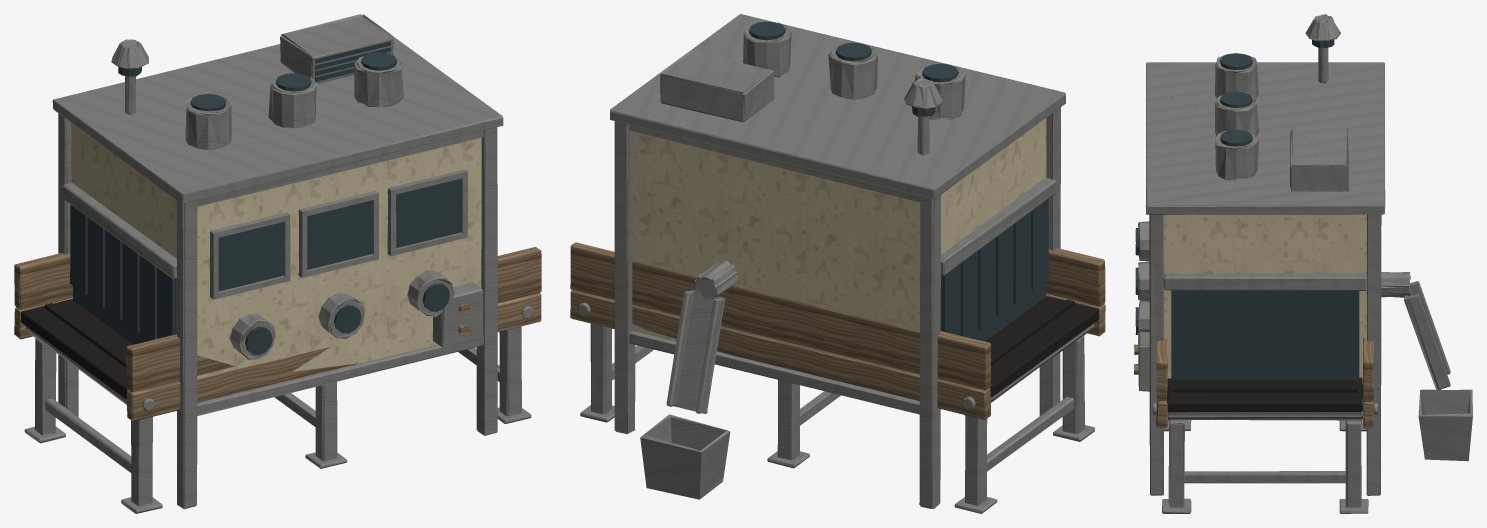
The model's file is optical_sorter.glb.
The picture shows the model from 3 angles, left to right: view 1: azimuth 30°, elevation 25°; view 2: azimuth 150°, elevation 25°; view 3: azimuth 270°, elevation 25°; orthographic projection. The views are drawn at different scales.
Parts seen in each view (by area): view 1: OpticalSorter, Belt; view 2: OpticalSorter, Belt; view 3: OpticalSorter, Belt, Roller2.
Boxes of the visible parts, x1=… form: OpticalSorter: x1=14, y1=14, x2=541, y2=513; Belt: x1=20, y1=299, x2=132, y2=399; OpticalSorter: x1=570, y1=14, x2=1105, y2=513; Belt: x1=985, y1=296, x2=1099, y2=397; OpticalSorter: x1=1134, y1=14, x2=1472, y2=513; Belt: x1=1167, y1=377, x2=1362, y2=412; Roller2: x1=1167, y1=398, x2=1363, y2=420.
Size of the model in its own units: 3.37 by 3.05 by 2.62.
5 materials, 3 textured.
